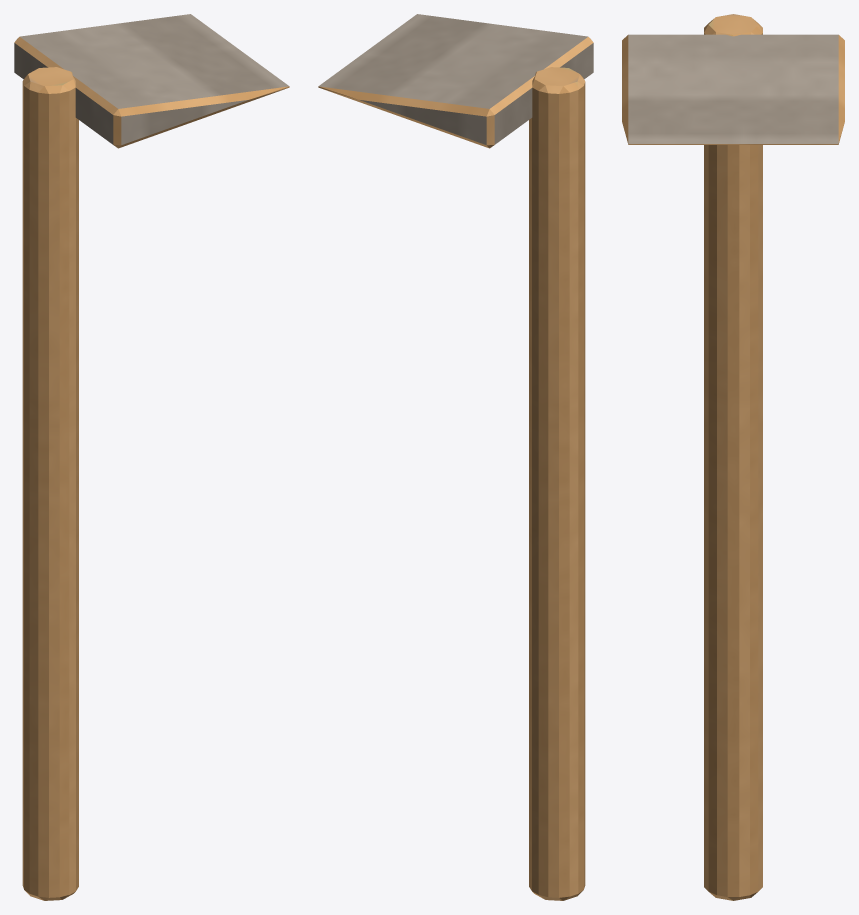
Rendered from sm_tool_hoe_upgraded.glb.
3 renders of one model, left to right at view 1: azimuth 30°, elevation 25°; view 2: azimuth 150°, elevation 25°; view 3: azimuth 270°, elevation 25°, orthographic. The views are drawn at different scales.
Visible parts, largest first — view 1: sm_tool_hoe_upgraded; view 2: sm_tool_hoe_upgraded; view 3: sm_tool_hoe_upgraded.
Part boxes in pixels (left/top/right/bottom): sm_tool_hoe_upgraded: left=14, top=14, right=289, bottom=900; sm_tool_hoe_upgraded: left=318, top=14, right=593, bottom=900; sm_tool_hoe_upgraded: left=622, top=14, right=844, bottom=900.
Bounding box in the file's own units: 0.1645 × 0.6 × 0.14.
Materials: 1 (1 with a texture image).
